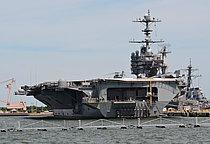MIL_Ship: (21, 8, 180, 118)
